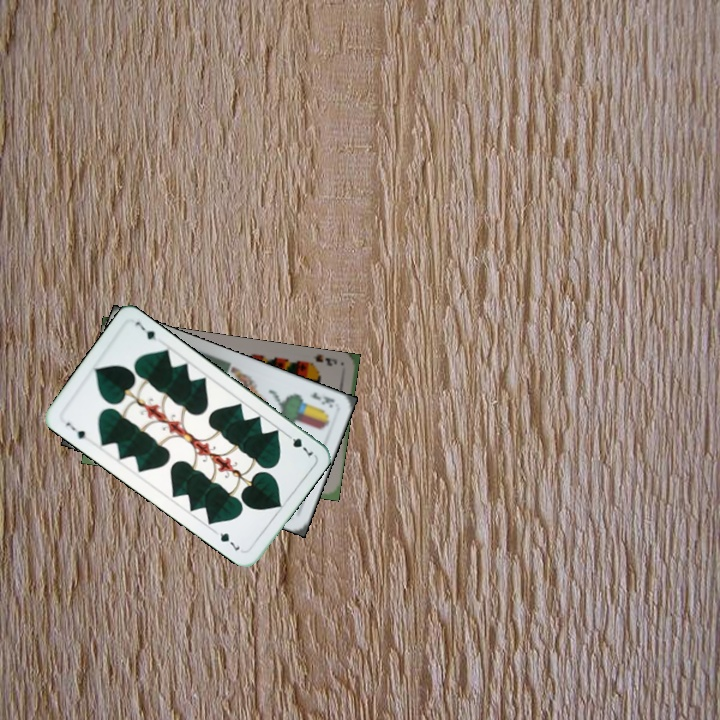EK: (305, 388, 337, 411)
G7: (281, 429, 316, 460), (61, 418, 88, 442)
S9: (305, 351, 340, 371)
